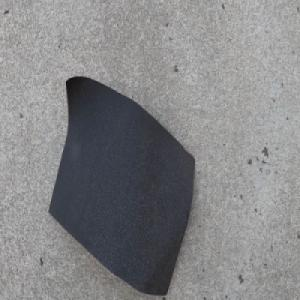PaintChip: (47, 75, 195, 298)
